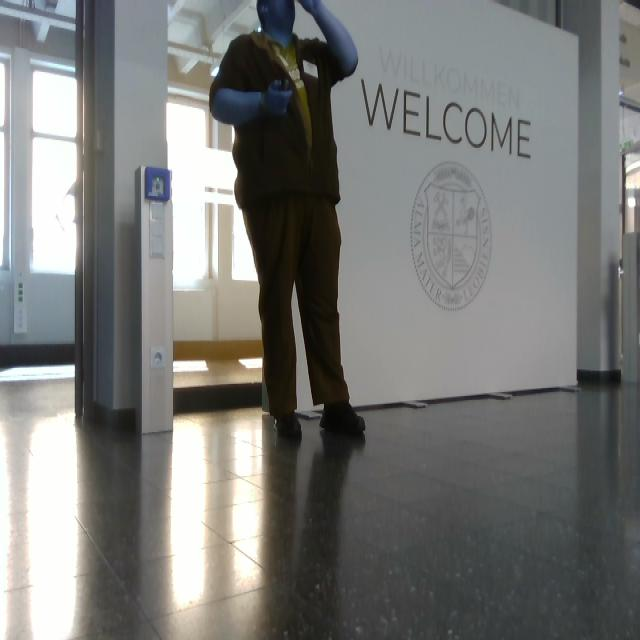door: (167, 1, 580, 413), (137, 165, 175, 434)
light bulb: (56, 194, 76, 232), (210, 65, 220, 78)
person: (209, 1, 367, 440)
pillar: (78, 1, 174, 434)
tiled floor: (2, 369, 639, 638)
